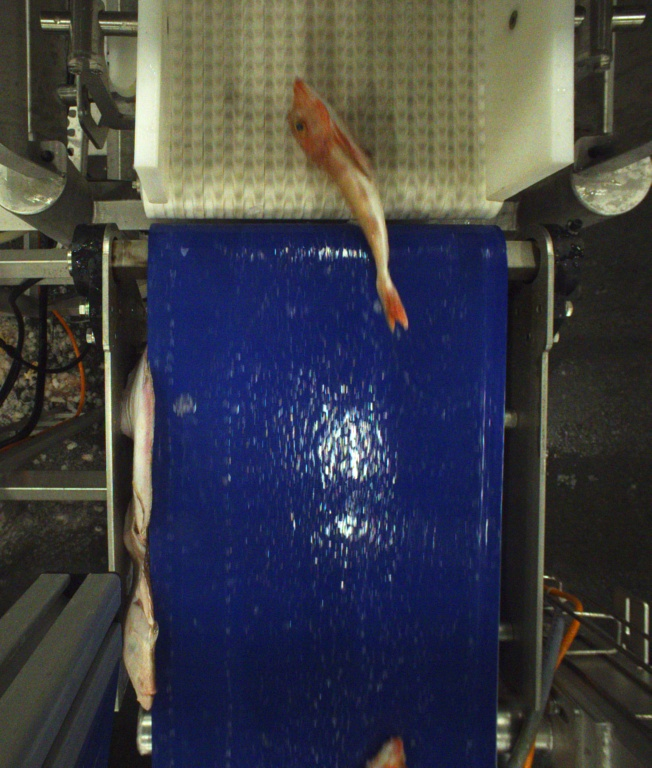GUU: (284, 74, 410, 335)
